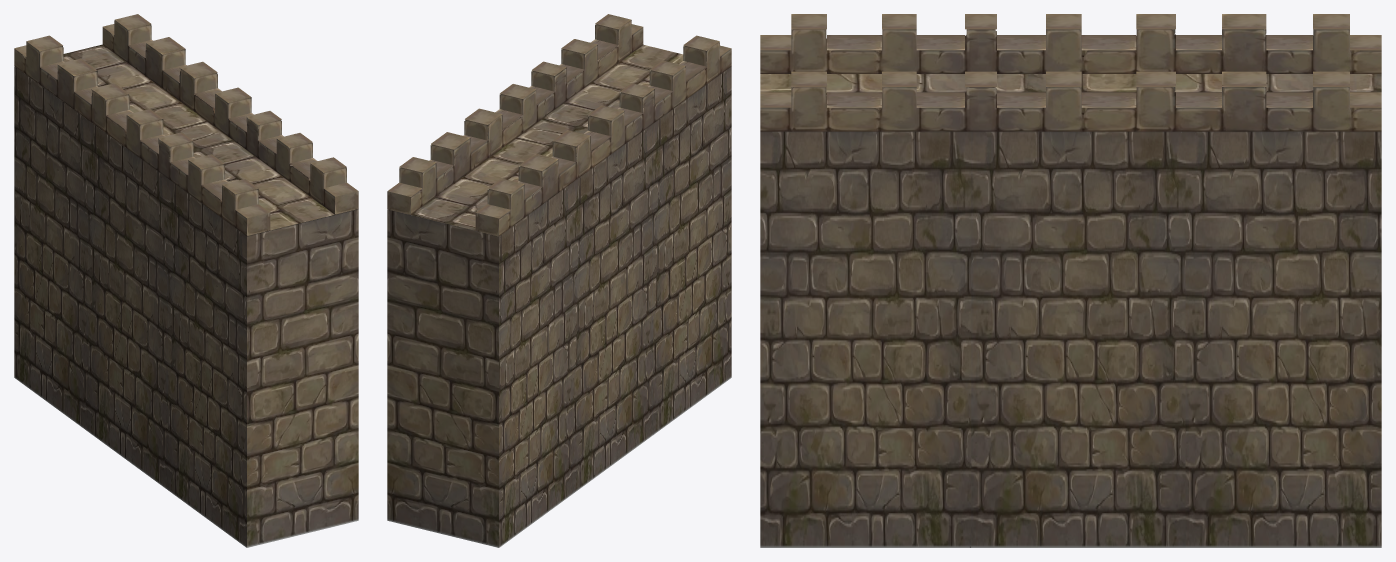
Rendered from pared.fbx.
3 views of the same model, side by side, from view 1: azimuth 30°, elevation 25°; view 2: azimuth 150°, elevation 25°; view 3: azimuth 270°, elevation 25° (orthographic). The views are drawn at different scales.
Visible parts, largest first — view 1: pared; view 2: pared; view 3: pared.
Boxes of the visible parts, x1,y1,x2,y2 form: pared: [14, 14, 358, 547]; pared: [387, 14, 731, 547]; pared: [760, 14, 1381, 547].
Bounding box in the file's own units: 404 × 1191 × 1455.
